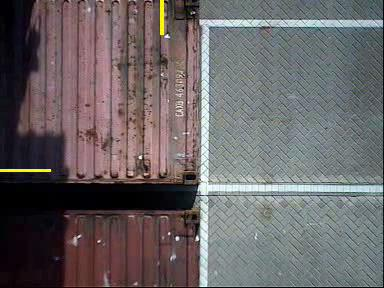groundmarker_2: (170, 70, 250, 119), (171, 183, 251, 232)
